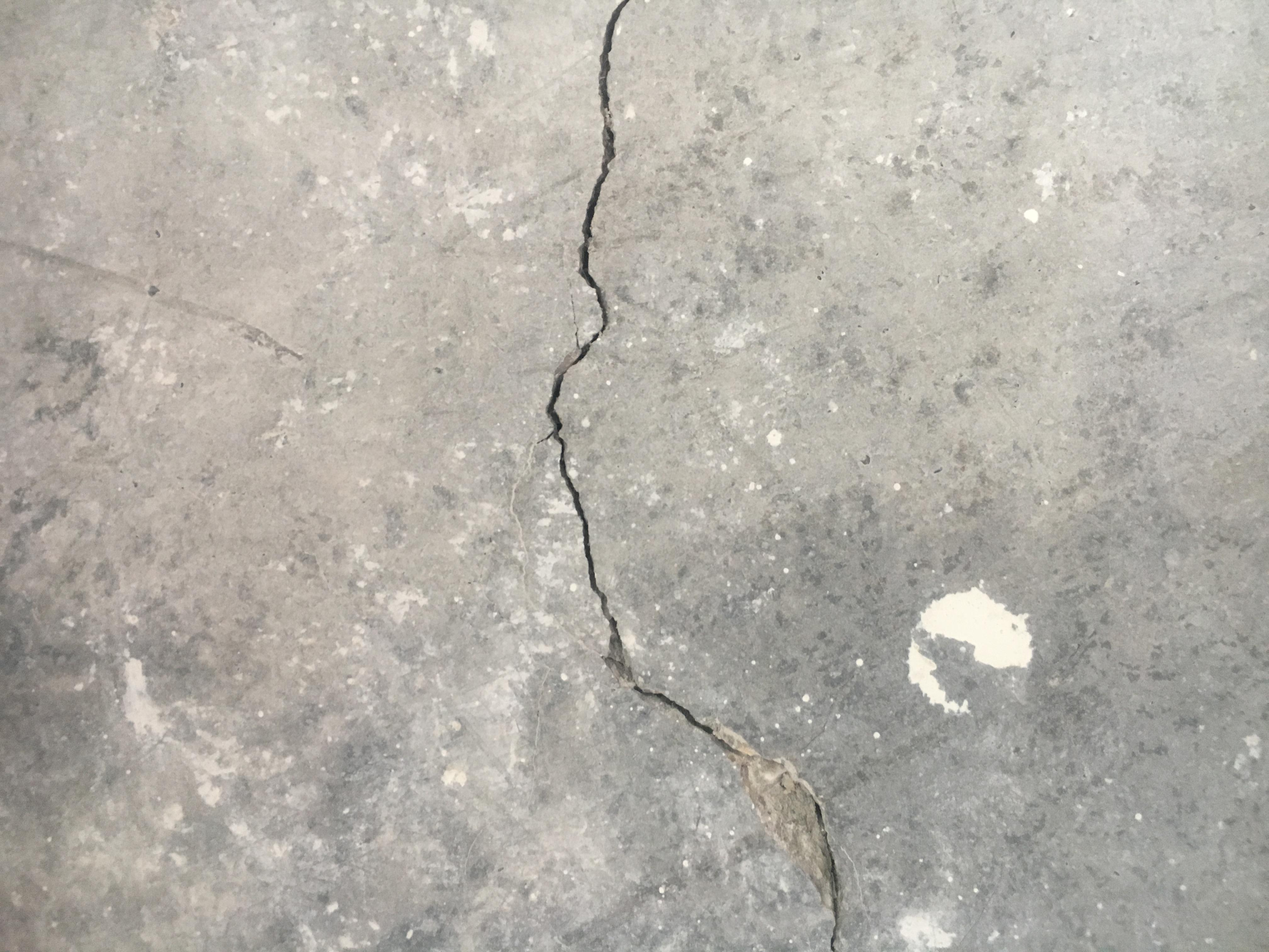Vertical Crack: (539, 1, 845, 947)
